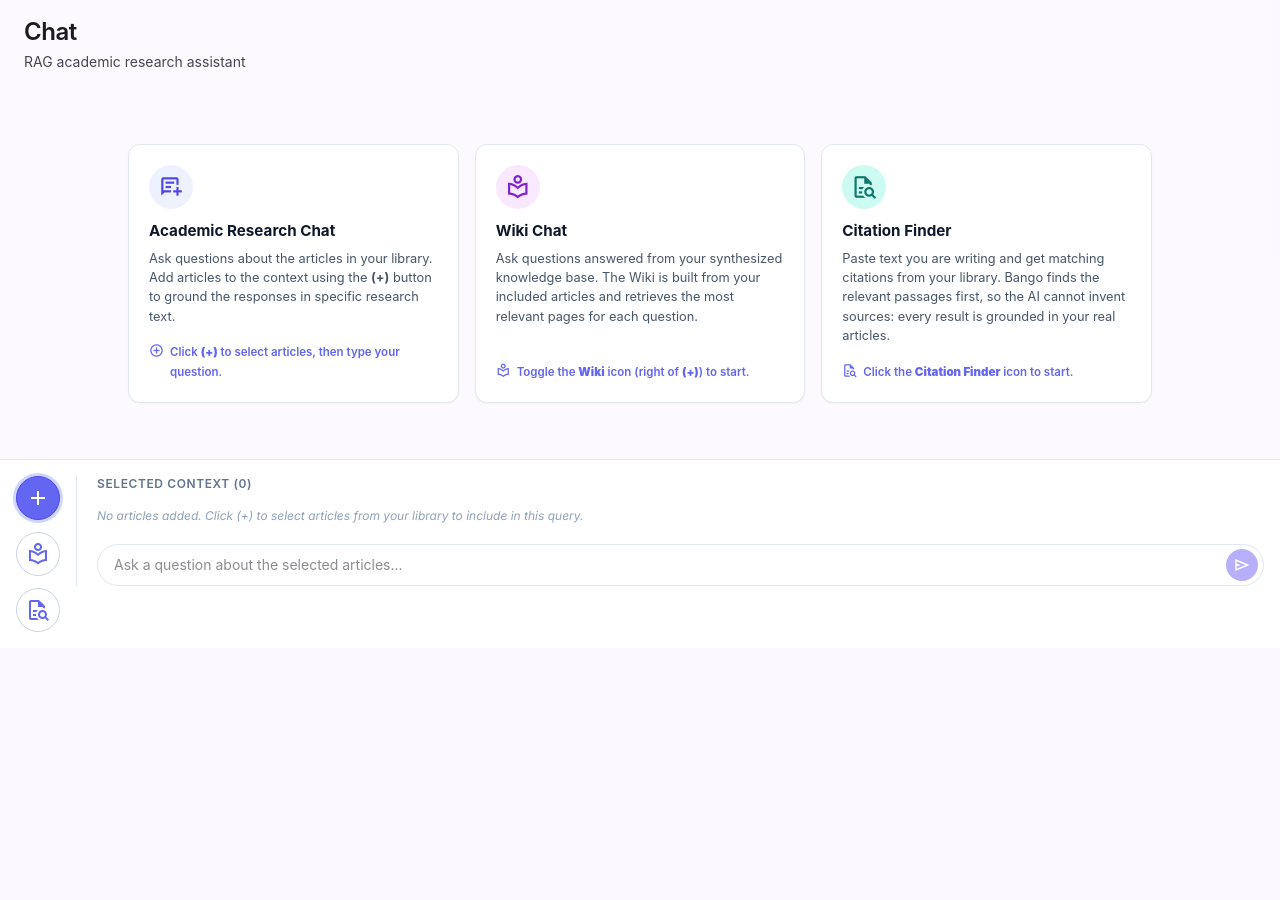
Scenario: chat-view.vue - welcome card hint actions › opens the article selector from the article card hint
What coordinates should you click on to do the following:
click the 1st button with class "chat-welcome-card__hint"
I would click on:
 (293, 358)
Its box is [149,334,438,382].
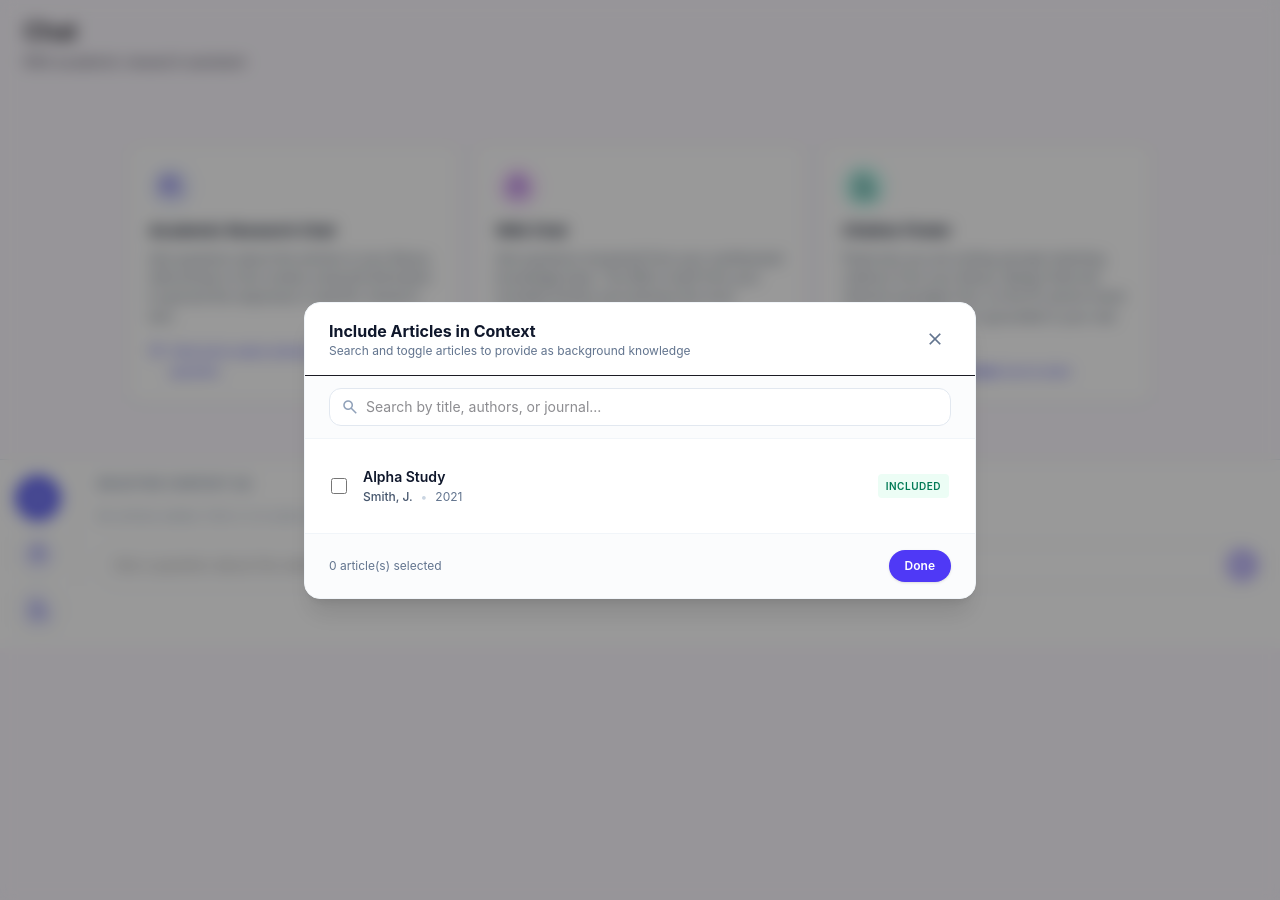
Expected: the number of checkboxes is 1, [331,478,347,494]
